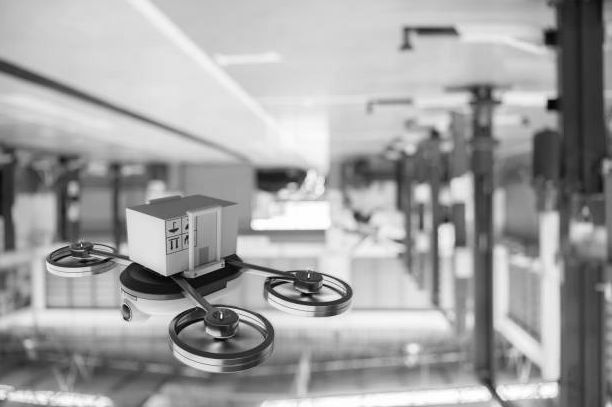Drone: (39, 239, 357, 370)
